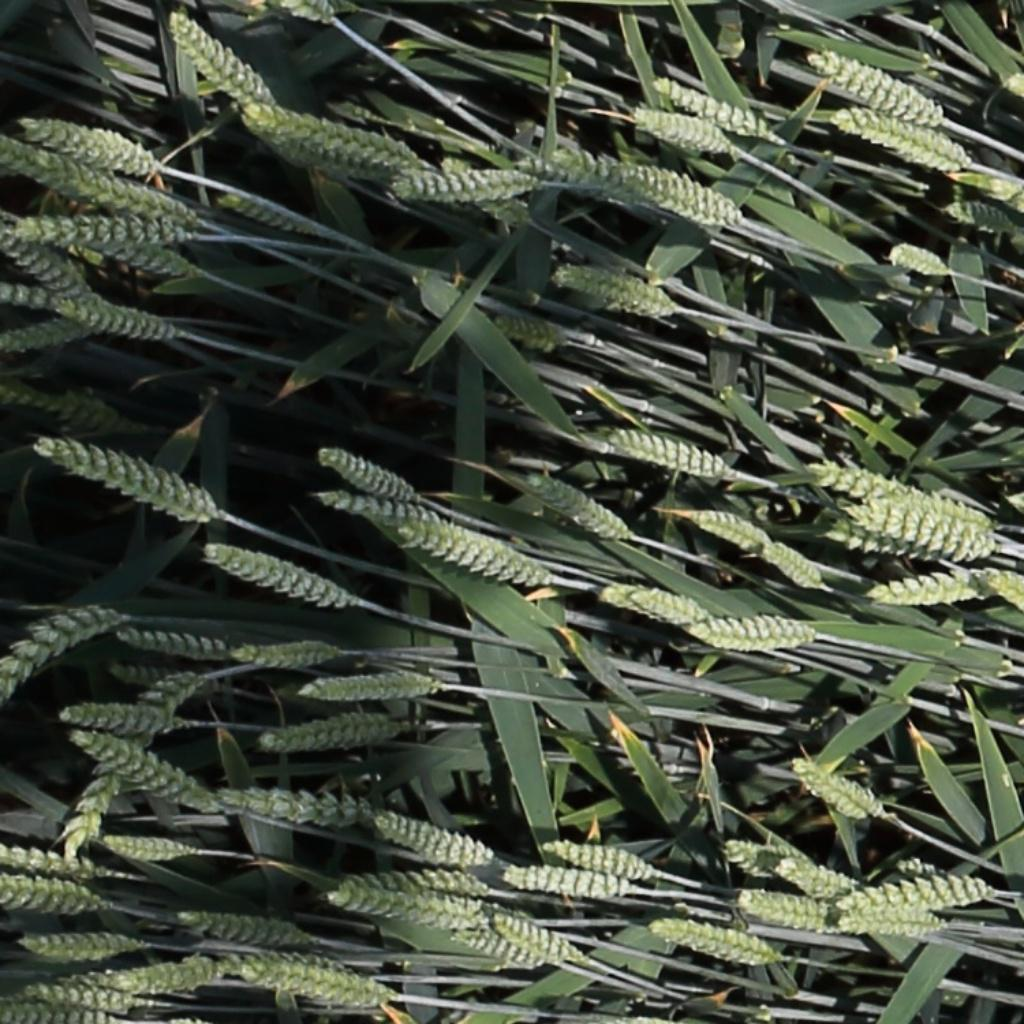0-0: (45, 669, 206, 859), (32, 437, 221, 526), (803, 460, 994, 541), (5, 140, 180, 221), (0, 601, 127, 709), (247, 105, 437, 175), (66, 730, 212, 809), (226, 950, 397, 1013), (163, 10, 271, 107), (808, 47, 940, 126), (836, 107, 977, 175), (405, 525, 551, 590), (845, 506, 1002, 564), (206, 543, 348, 606), (266, 126, 419, 181), (8, 288, 173, 338), (214, 785, 380, 833), (36, 959, 238, 998), (535, 155, 653, 217), (651, 76, 771, 135), (600, 428, 733, 481), (259, 712, 407, 759), (374, 813, 497, 869), (330, 884, 483, 929), (645, 914, 779, 965), (23, 117, 151, 170), (525, 472, 629, 537), (439, 152, 526, 226), (552, 262, 673, 314), (311, 491, 456, 534), (628, 166, 738, 222), (0, 225, 86, 296), (9, 385, 129, 435), (481, 912, 585, 965), (387, 168, 540, 204), (834, 877, 989, 912), (790, 761, 879, 821), (316, 447, 413, 502), (732, 889, 843, 937), (868, 566, 1001, 606), (176, 909, 308, 948), (537, 839, 655, 882), (14, 927, 143, 966), (593, 582, 707, 626), (689, 614, 817, 653), (348, 864, 493, 898), (217, 189, 319, 237), (10, 215, 187, 241), (631, 578, 714, 633), (632, 105, 729, 152), (500, 862, 630, 897), (115, 626, 228, 666), (893, 855, 989, 901), (759, 536, 830, 595), (301, 672, 438, 702), (1, 880, 111, 917), (58, 703, 194, 732), (28, 985, 155, 1016), (451, 928, 546, 968), (0, 841, 96, 880), (823, 522, 948, 551), (90, 240, 191, 275), (831, 908, 948, 938), (684, 510, 767, 550), (723, 835, 791, 882), (99, 836, 200, 867), (230, 640, 335, 669), (775, 862, 857, 899), (488, 315, 564, 352), (980, 567, 1024, 628), (1, 320, 90, 349), (944, 202, 1016, 232), (887, 243, 951, 275), (5, 1003, 102, 1024), (276, 1, 332, 24)
